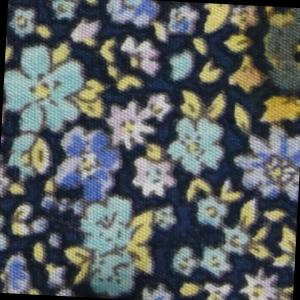Oil Stain: (227, 6, 300, 137)
